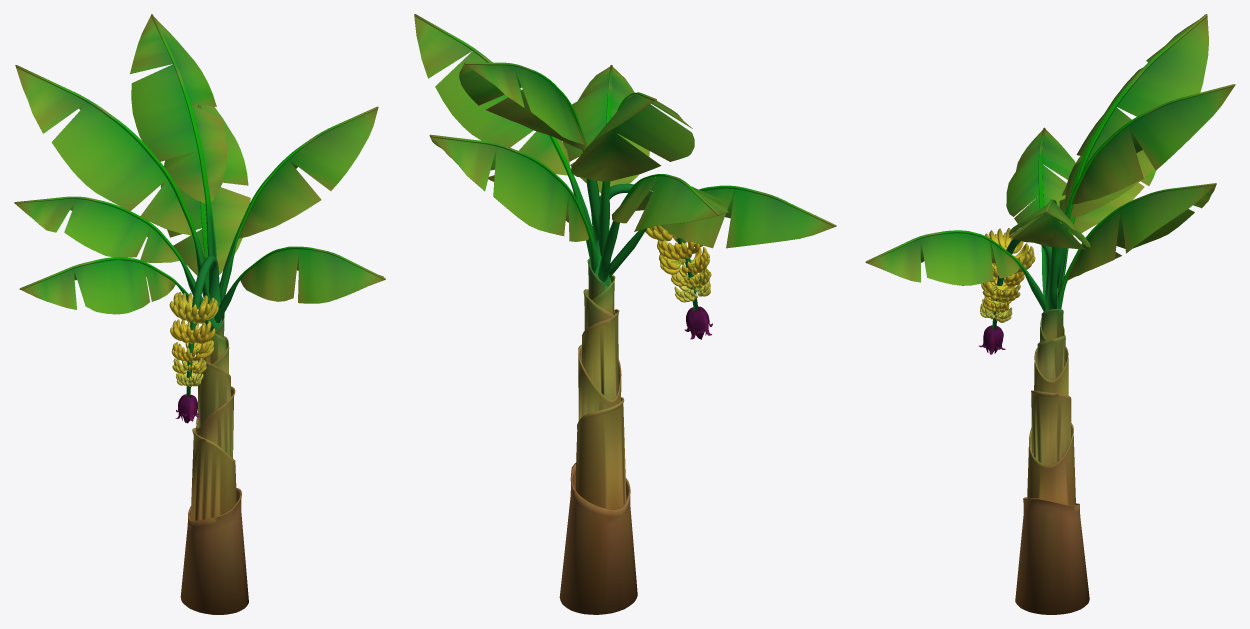
Rendered from PlantWithBananas.glb.
3 renders of one model, left to right at view 1: azimuth 30°, elevation 25°; view 2: azimuth 150°, elevation 25°; view 3: azimuth 270°, elevation 25°, orthographic. The views are drawn at different scales.
Parts seen in each view (by area): view 1: PlantWithBananas; view 2: PlantWithBananas; view 3: PlantWithBananas.
Boxes of the visible parts, bbox=[...] form: PlantWithBananas: bbox=[14, 14, 385, 614]; PlantWithBananas: bbox=[414, 14, 836, 614]; PlantWithBananas: bbox=[865, 14, 1235, 614].
Size of the model in its own units: 2.41 by 3.31 by 2.09.
Materials: 1 (1 with a texture image).
